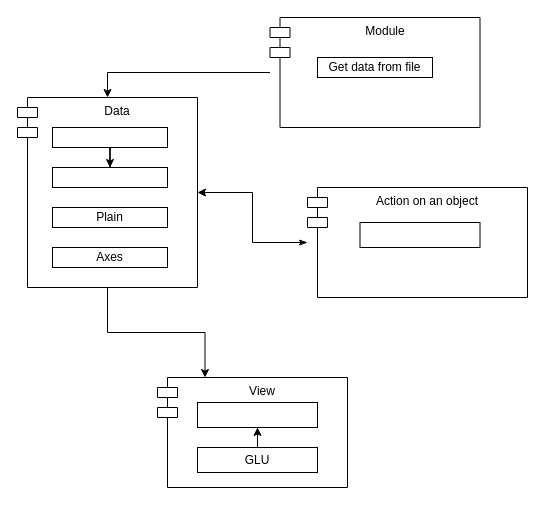
Image size: 545x505. Some labels were removed from this diagram. The shapes that lost their labels are listed below. From the top down, each one's centre as x and y in pixels, then its label:
the point at 110,137: Vertex
the point at 110,177: Edges
the point at 419,235: Cut objects
the point at 257,415: OpenGL
